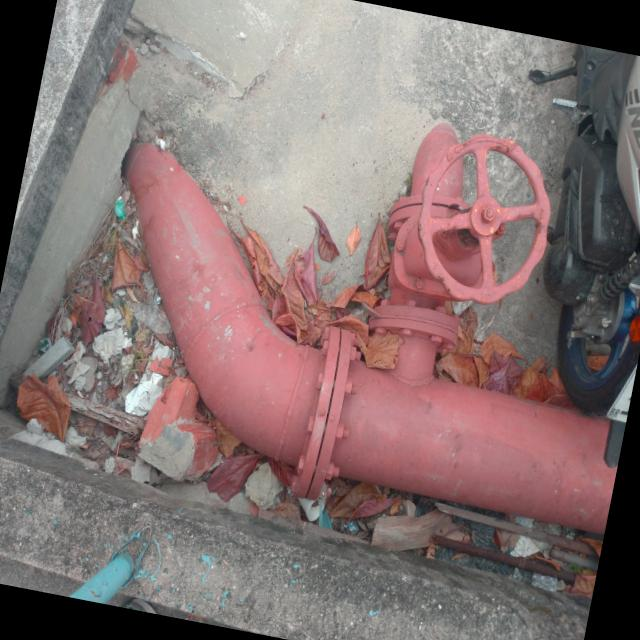gas: (127, 180, 625, 532), (373, 157, 474, 381)
